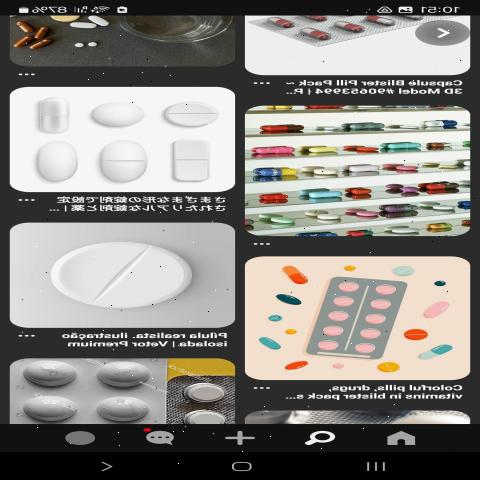Pill: (29, 228, 205, 323), (150, 134, 224, 190), (86, 137, 158, 189), (17, 140, 84, 186), (82, 94, 144, 132), (18, 354, 80, 391), (23, 92, 72, 138), (160, 98, 220, 132), (89, 363, 151, 389), (172, 382, 231, 404)
